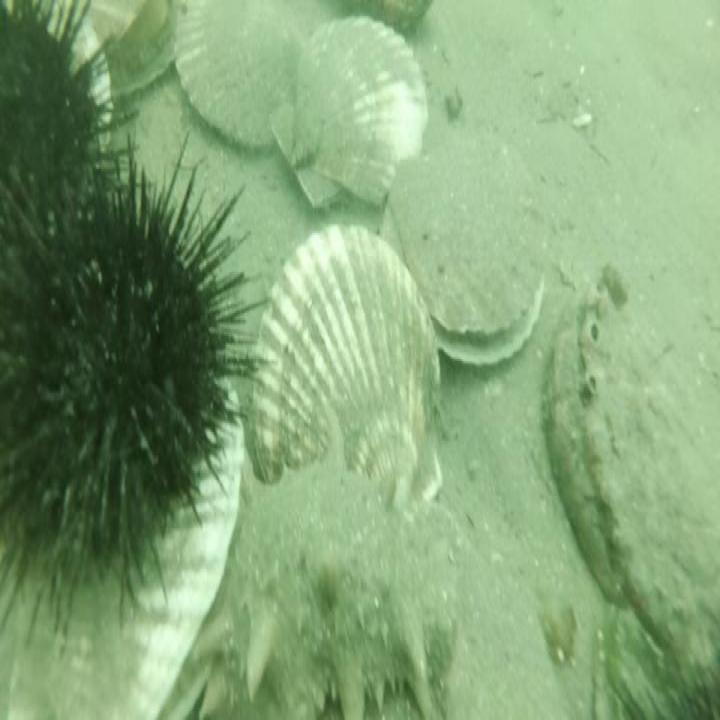echinus: (0, 148, 244, 602), (0, 0, 130, 267)
holothurian: (190, 533, 466, 720)
scallop: (250, 215, 449, 510), (384, 144, 547, 377), (264, 12, 432, 224), (170, 0, 310, 156), (47, 0, 115, 160)
